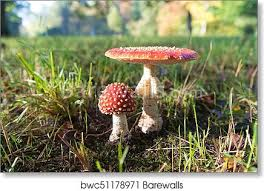Amanita muscaria: (98, 41, 198, 132), (91, 77, 139, 145)
